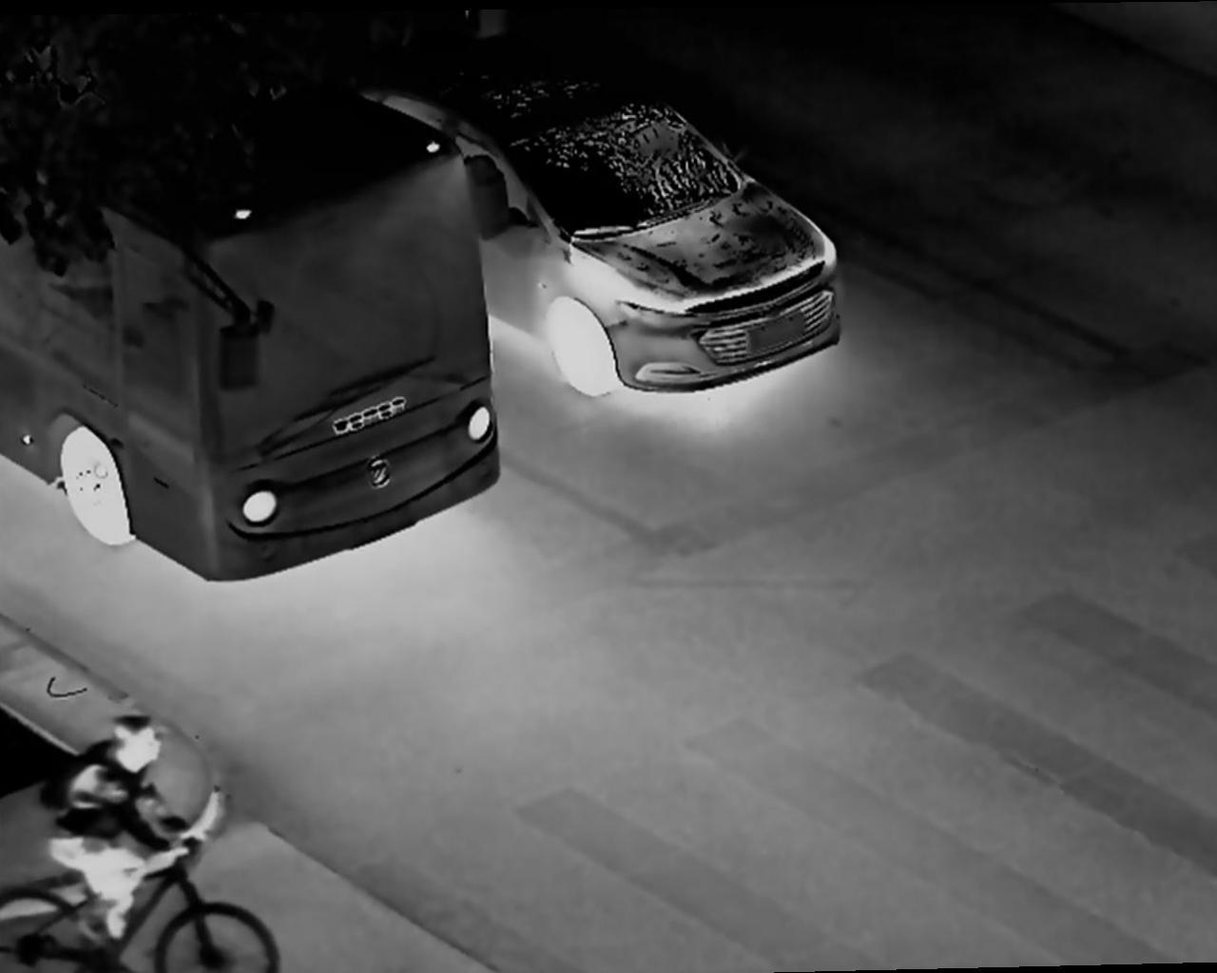person: (47, 695, 204, 922)
